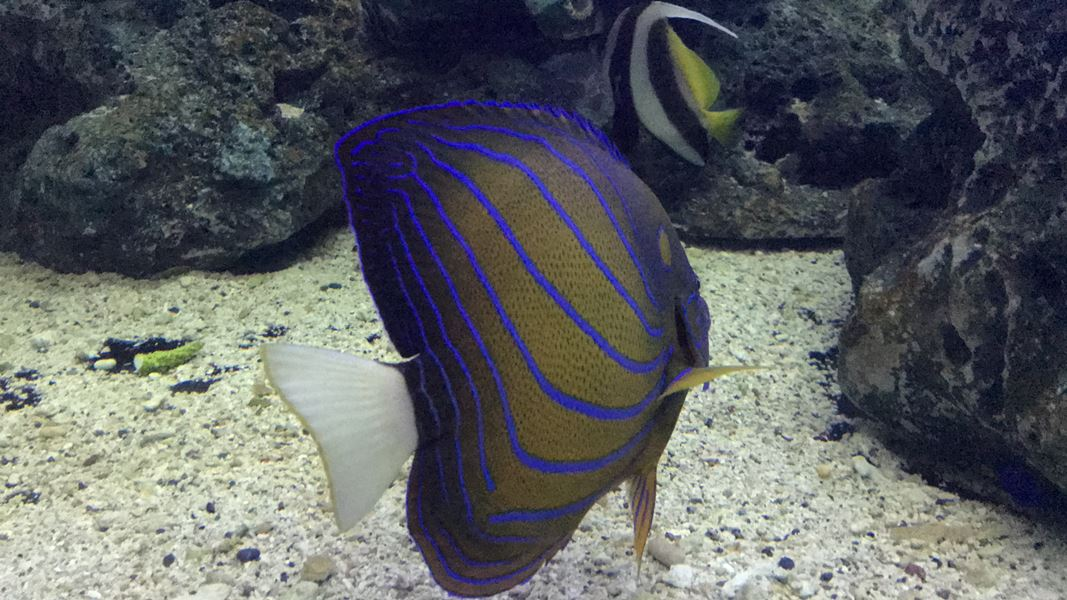Blue ring angelfish: (216, 85, 782, 600)
